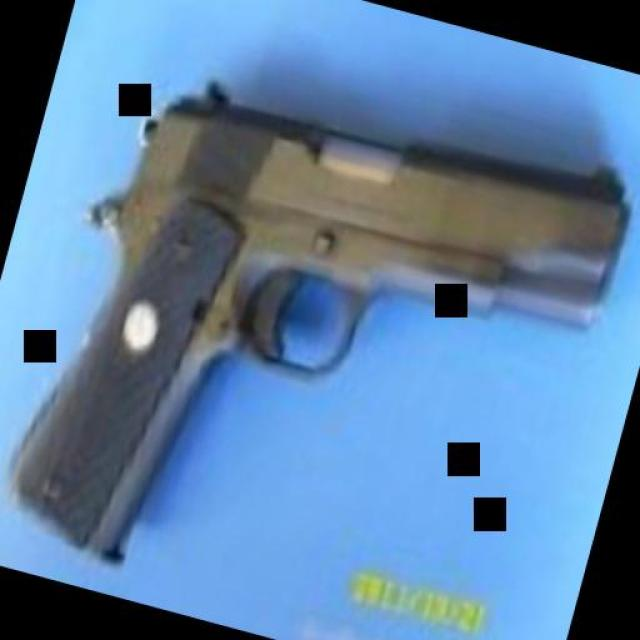gun: (0, 35, 638, 640)
